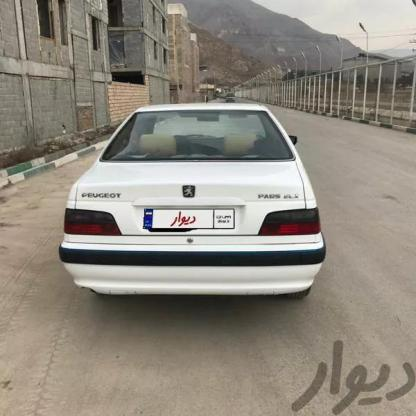Car: (59, 93, 338, 314)
